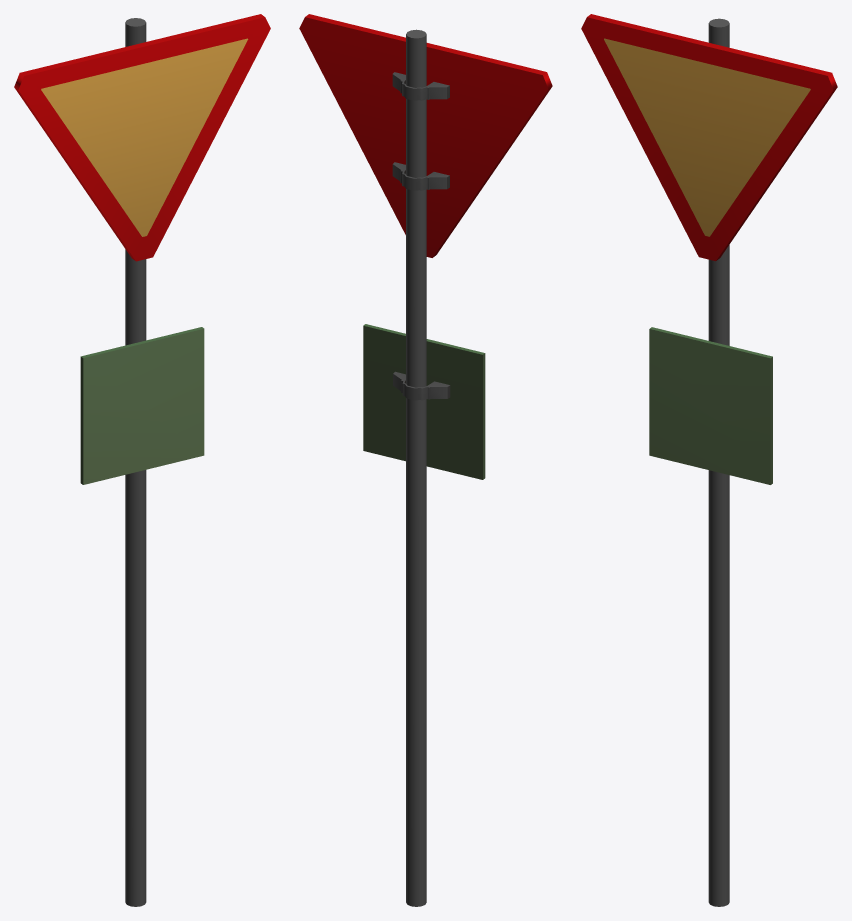
File: TriTrafficSign_Sign.fbx
3 renders of one model, left to right at view 1: azimuth 30°, elevation 25°; view 2: azimuth 150°, elevation 25°; view 3: azimuth 330°, elevation 25°, orthographic.
Parts seen in each view (by area): view 1: TriTrafficSign_Sign; view 2: TriTrafficSign_Sign; view 3: TriTrafficSign_Sign.
Boxes of the visible parts, x1,y1,x2,y2 form: TriTrafficSign_Sign: [14, 14, 270, 906]; TriTrafficSign_Sign: [299, 14, 552, 906]; TriTrafficSign_Sign: [581, 14, 837, 906].
Bounding box in the file's own units: 76 × 253 × 8.73.
